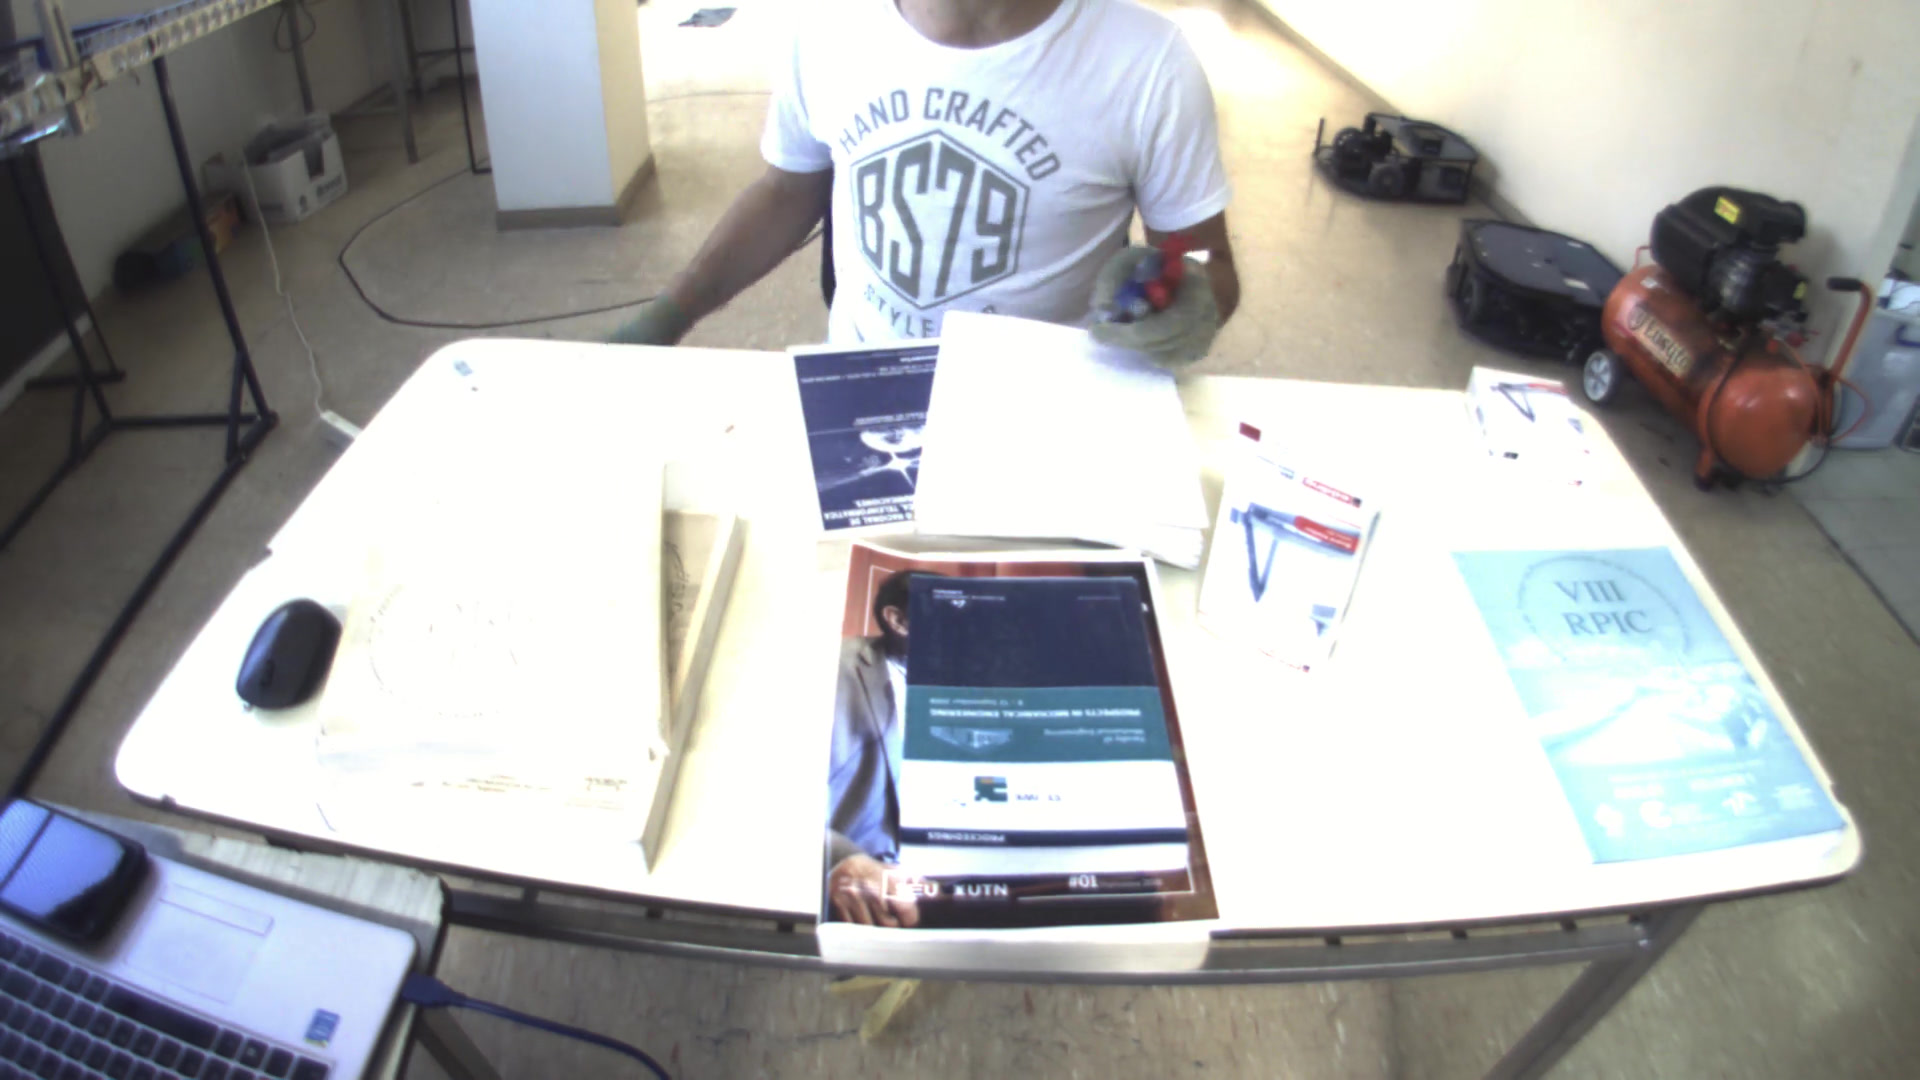hand: (1077, 235, 1249, 372)
